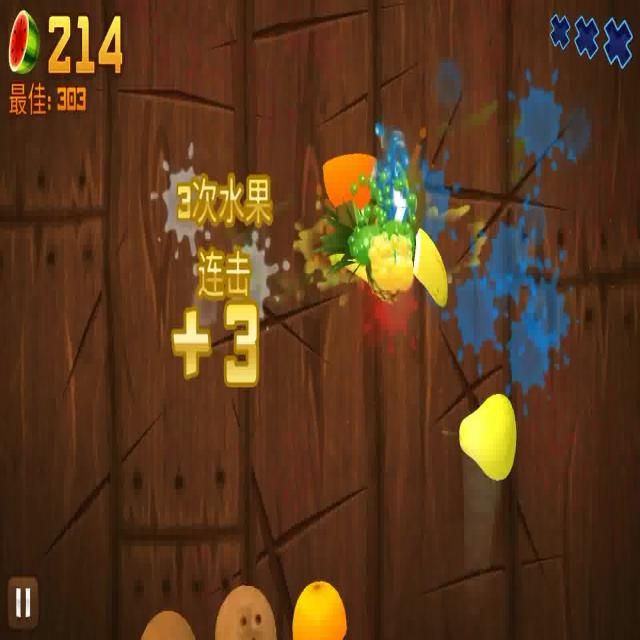fruit: (459, 390, 516, 478), (320, 152, 380, 212), (292, 581, 348, 640), (214, 586, 275, 640), (412, 228, 451, 310), (144, 608, 196, 640)
